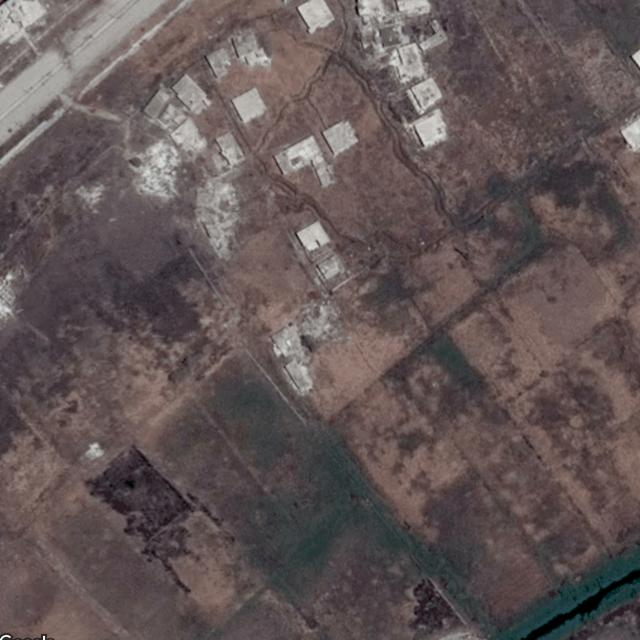damaged_building: (267, 301, 347, 396), (131, 117, 207, 198), (192, 170, 239, 256)
